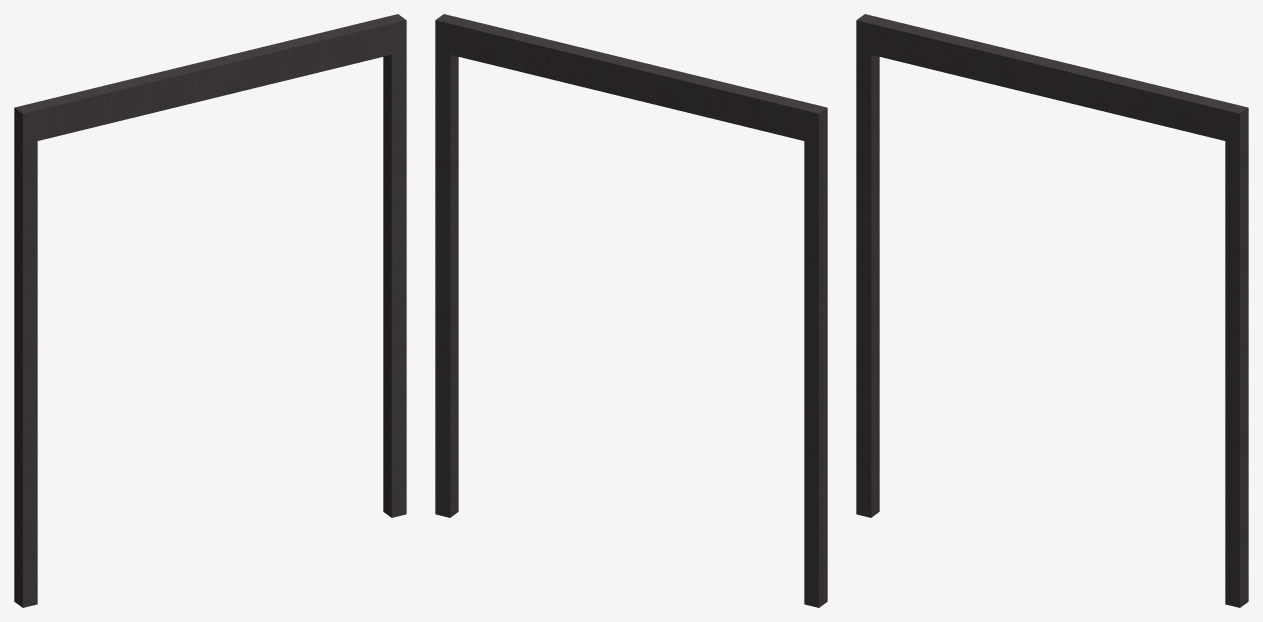
File: es-flame_h2400-w1800_kakicha.fbx
The picture shows the model from 3 angles, left to right: view 1: azimuth 30°, elevation 25°; view 2: azimuth 150°, elevation 25°; view 3: azimuth 330°, elevation 25°; orthographic projection.
Visible parts, largest first — view 1: es-flame_h2400-w1800_kakicha; view 2: es-flame_h2400-w1800_kakicha; view 3: es-flame_h2400-w1800_kakicha.
Part boxes in pixels (left/top/right/bottom): es-flame_h2400-w1800_kakicha: left=14, top=14, right=406, bottom=607; es-flame_h2400-w1800_kakicha: left=435, top=14, right=827, bottom=607; es-flame_h2400-w1800_kakicha: left=856, top=14, right=1248, bottom=607.
Size of the model in its own units: 195 by 240 by 7.5.
1 material, 1 textured.
